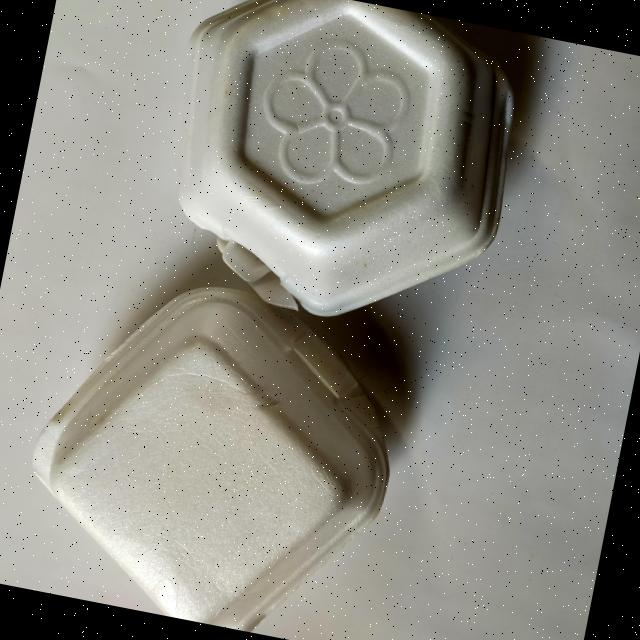styrofoam: (6, 254, 420, 640), (141, 0, 537, 348)
